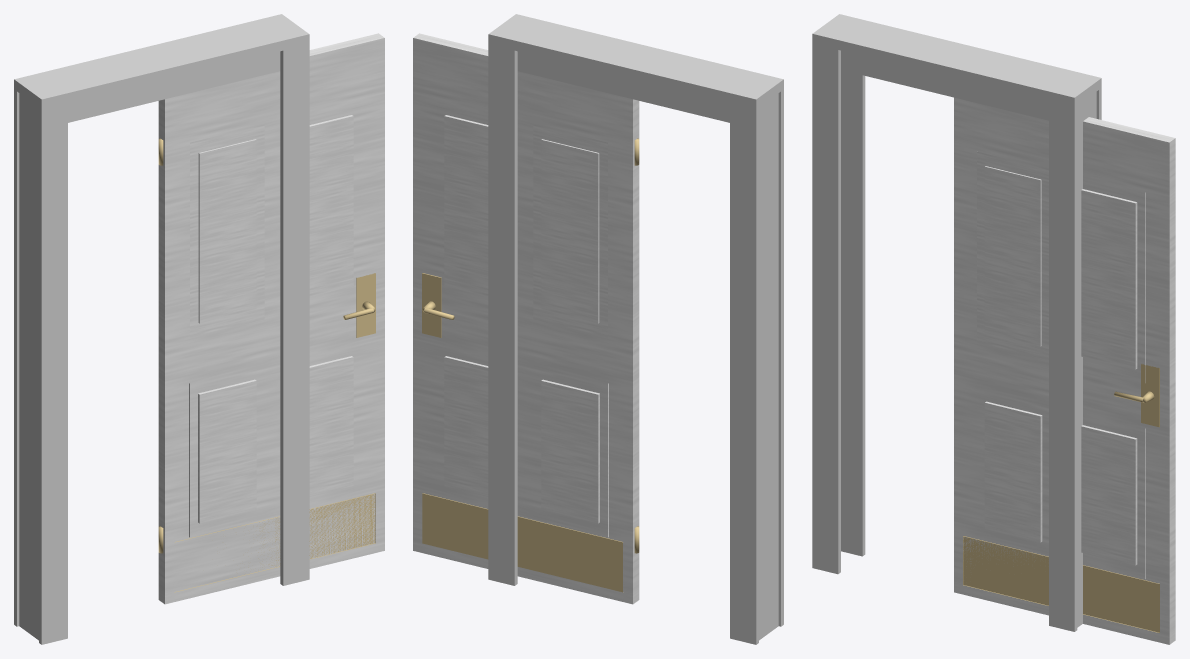
File: door_panel.glb
The picture shows the model from 3 angles, left to right: view 1: azimuth 30°, elevation 25°; view 2: azimuth 150°, elevation 25°; view 3: azimuth 330°, elevation 25°; orthographic projection. The views are drawn at different scales.
Visible parts, largest first — view 1: Leaf, Frame; view 2: Leaf, Frame; view 3: Leaf, Frame.
Part boxes in pixels (x1,y1,x2,y2): Leaf: (158,33,384,604); Frame: (14,14,309,644); Leaf: (413,33,639,604); Frame: (488,14,783,644); Leaf: (954,97,1175,644); Frame: (812,14,1101,631).
Bounding box in the file's own units: 1.48 × 2.18 × 0.2.
3 materials, 1 textured.
